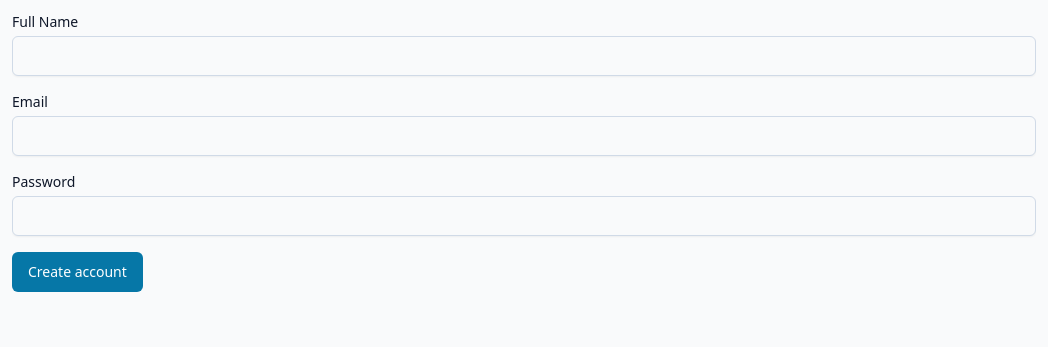
Test case: RegisterForm › validates required fields
Step 1. Click the button "Create account" → (77, 272), box [12, 252, 143, 292]
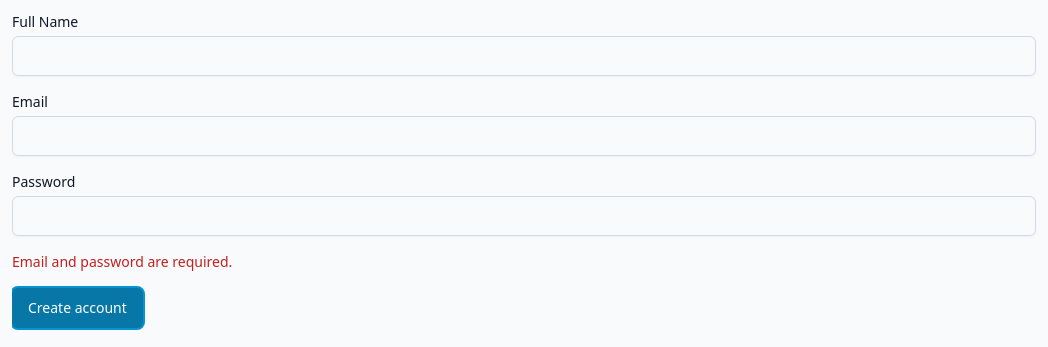
Expected: the text "Email and password are required." is shown, [12, 252, 232, 271]
